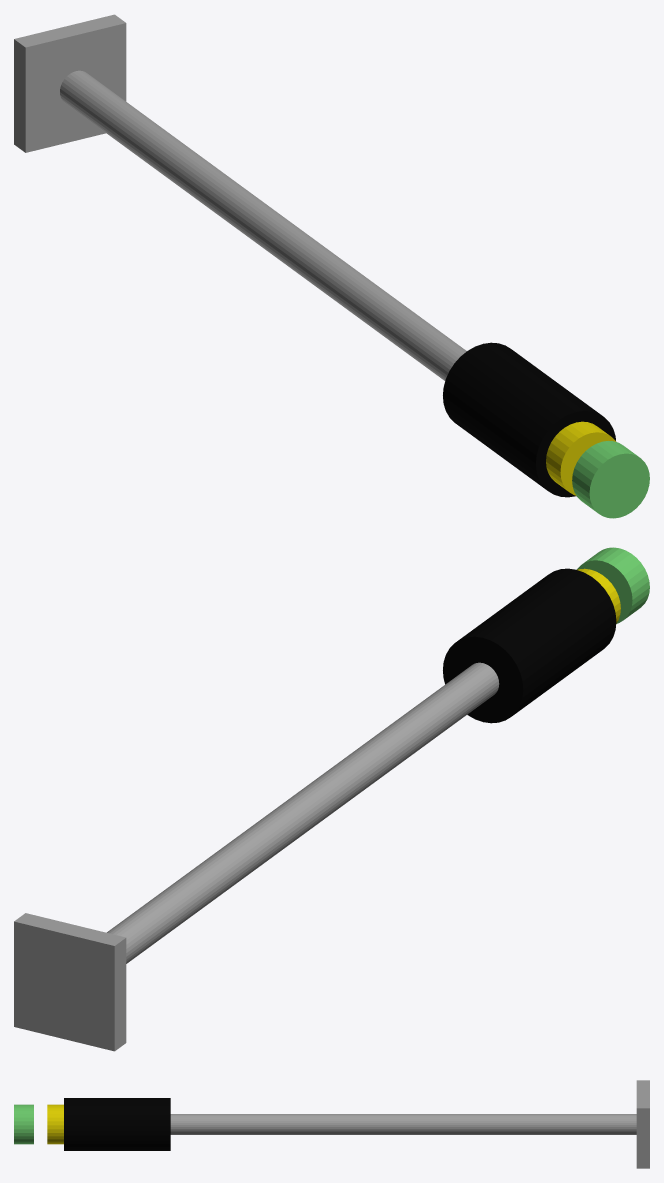
File: traffic_light.glb
3 renders of one model, top to bottom at view 1: azimuth 30°, elevation 25°; view 2: azimuth 150°, elevation 25°; view 3: azimuth 270°, elevation 25°, orthographic. The views are drawn at different scales.
Visible parts, largest first — view 1: geometry_0, geometry_1, geometry_5, geometry_4, geometry_3; view 2: geometry_0, geometry_1, geometry_5, geometry_4; view 3: geometry_0, geometry_1, geometry_5, geometry_4, geometry_3.
Boxes of the visible parts, x1=… form: geometry_0: x1=60, y1=70, x2=466, y2=380; geometry_1: x1=443, y1=342, x2=615, y2=497; geometry_5: x1=14, y1=14, x2=126, y2=152; geometry_4: x1=572, y1=441, x2=649, y2=518; geometry_3: x1=546, y1=421, x2=615, y2=495; geometry_0: x1=48, y1=662, x2=499, y2=1003; geometry_1: x1=443, y1=568, x2=616, y2=723; geometry_5: x1=14, y1=913, x2=126, y2=1051; geometry_4: x1=577, y1=547, x2=649, y2=623; geometry_0: x1=170, y1=1114, x2=636, y2=1134; geometry_1: x1=64, y1=1098, x2=170, y2=1150; geometry_5: x1=636, y1=1080, x2=649, y2=1168; geometry_4: x1=14, y1=1104, x2=33, y2=1144; geometry_3: x1=47, y1=1104, x2=63, y2=1144.
Bounding box in the file's own units: 0.5 × 0.5 × 4.78.
